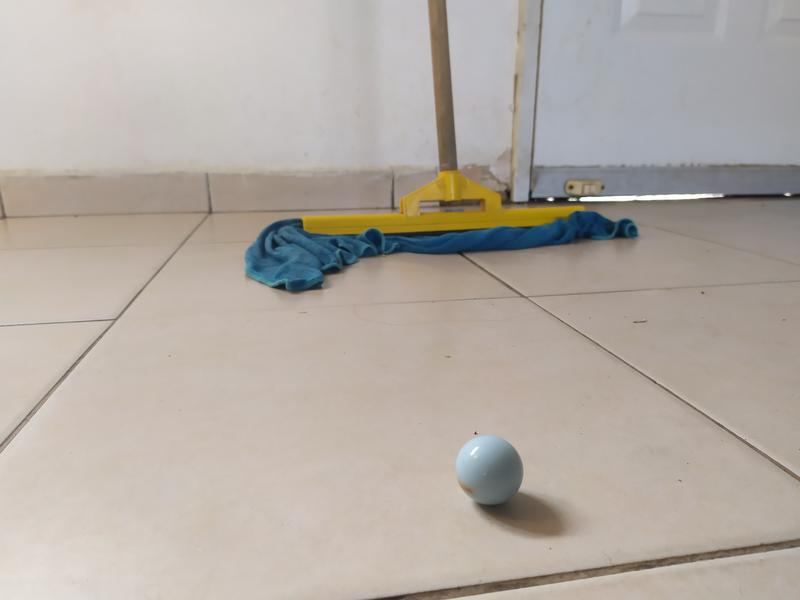Warning: (452, 433, 526, 507)
